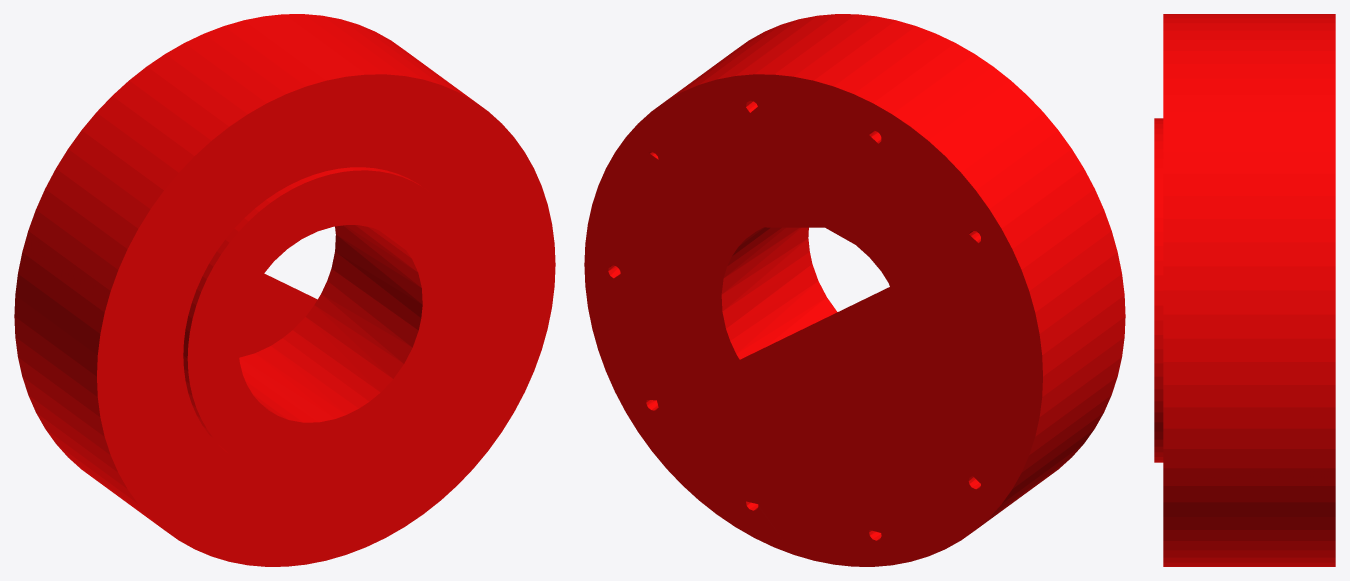
Rendered from legs_1_right_leg_1_x10_1_outer_1.glb.
The picture shows the model from 3 angles, left to right: view 1: azimuth 30°, elevation 25°; view 2: azimuth 150°, elevation 25°; view 3: azimuth 270°, elevation 25°; orthographic projection. The views are drawn at different scales.
Visible parts, largest first — view 1: legs_1_right_leg_1_x10_1_outer_1.obj; view 2: legs_1_right_leg_1_x10_1_outer_1.obj; view 3: legs_1_right_leg_1_x10_1_outer_1.obj.
Part boxes in pixels (bbox=[...]): legs_1_right_leg_1_x10_1_outer_1.obj: bbox=[14, 14, 555, 566]; legs_1_right_leg_1_x10_1_outer_1.obj: bbox=[584, 14, 1125, 566]; legs_1_right_leg_1_x10_1_outer_1.obj: bbox=[1154, 14, 1335, 566].
Bounding box in the file's own units: 0.122 × 0.122 × 0.04.
